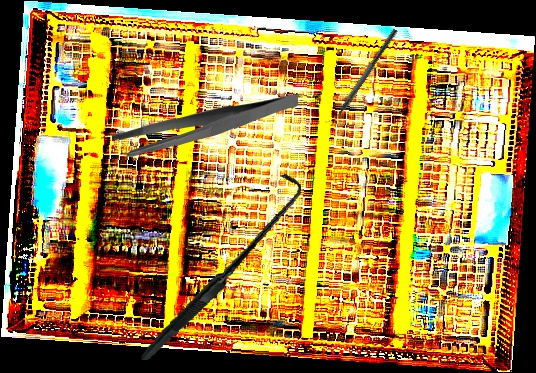Chopper: (323, 24, 399, 129)
Dressing Forceps: (111, 90, 299, 160)
Hook Surgical: (120, 172, 320, 361)
